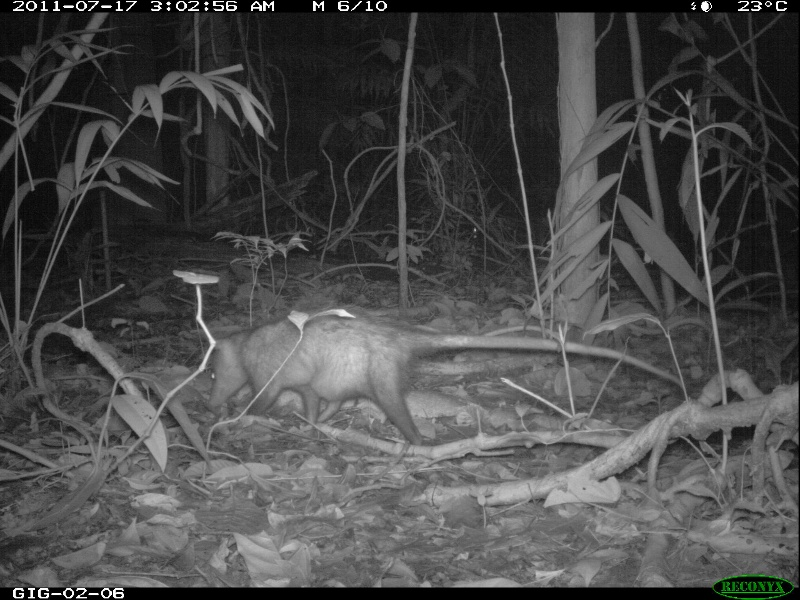opossum: (206, 303, 690, 443)
